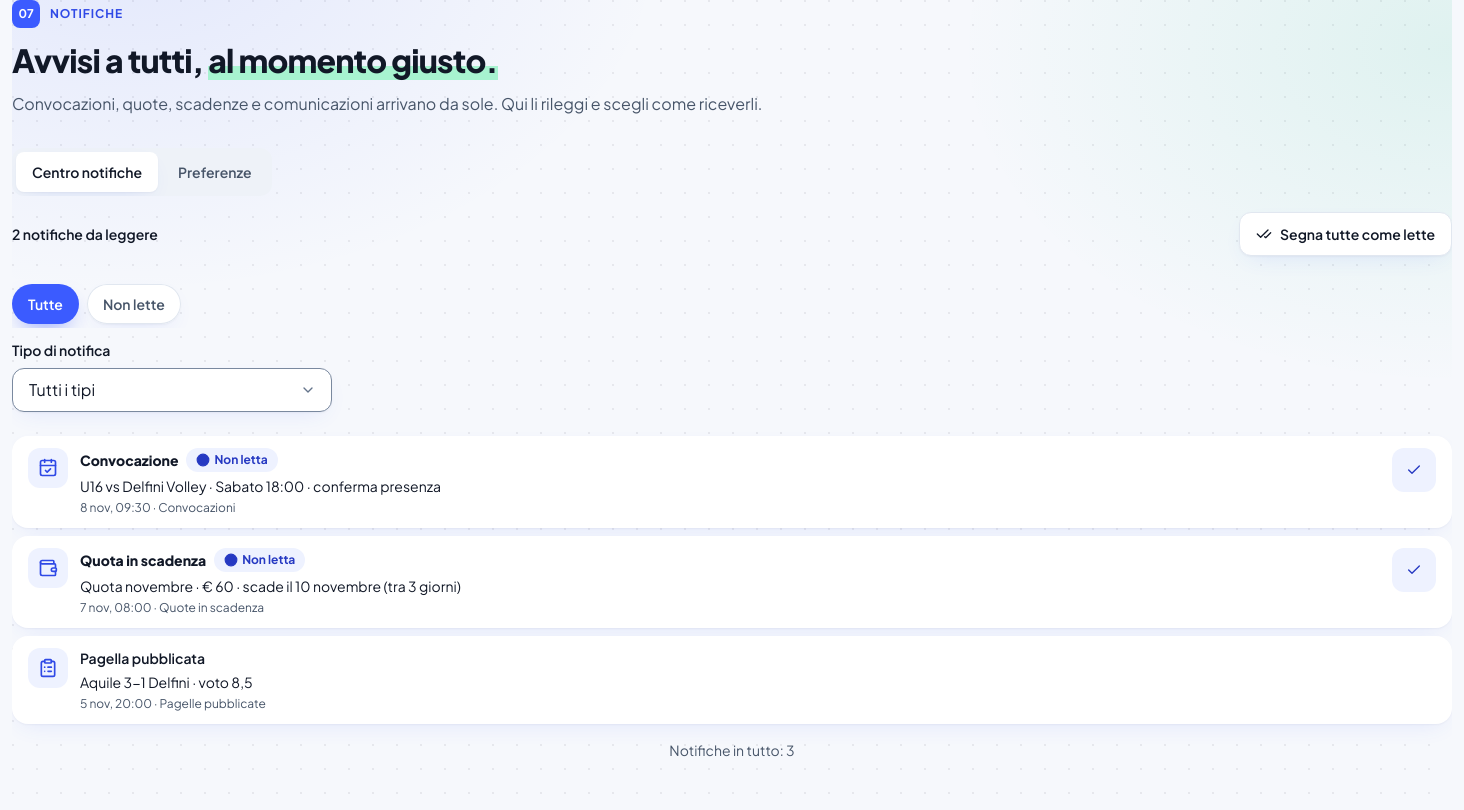
Test: NotifichePage, centro notifiche › marks one notification as read and moves focus to the counter
expect the text "2 notifiche da leggere" is shown: met, box [12,224,158,244]
Step 1. Click the button named "Segna come letta: Quota in scadenza" → (1414, 570), box [1392,548,1436,592]
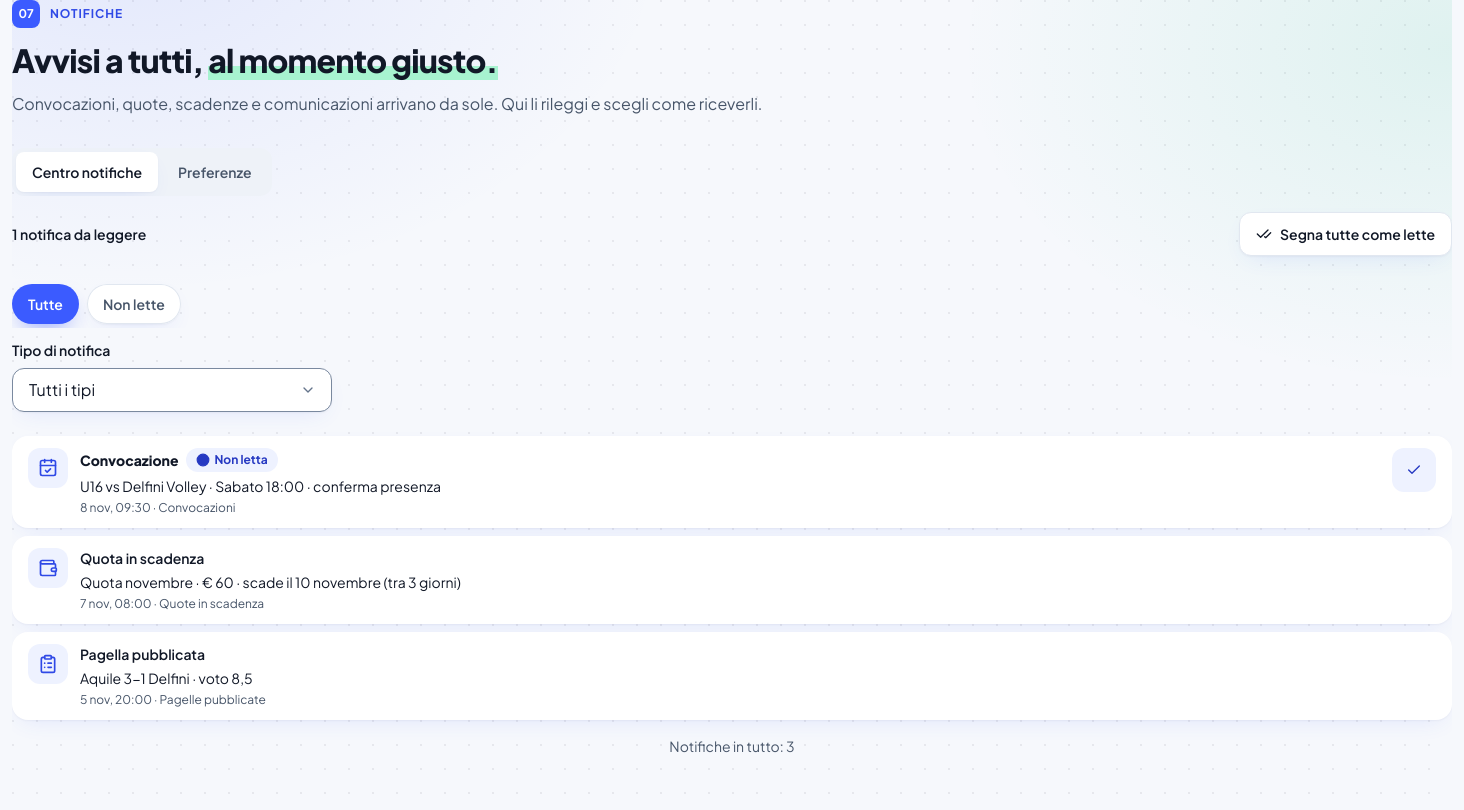
expect the button named "Segna come letta: Convocazione" is shown: met, box [1392,448,1436,492]
expect the text "1 notifica da leggere" is shown: met, box [12,224,146,244]
